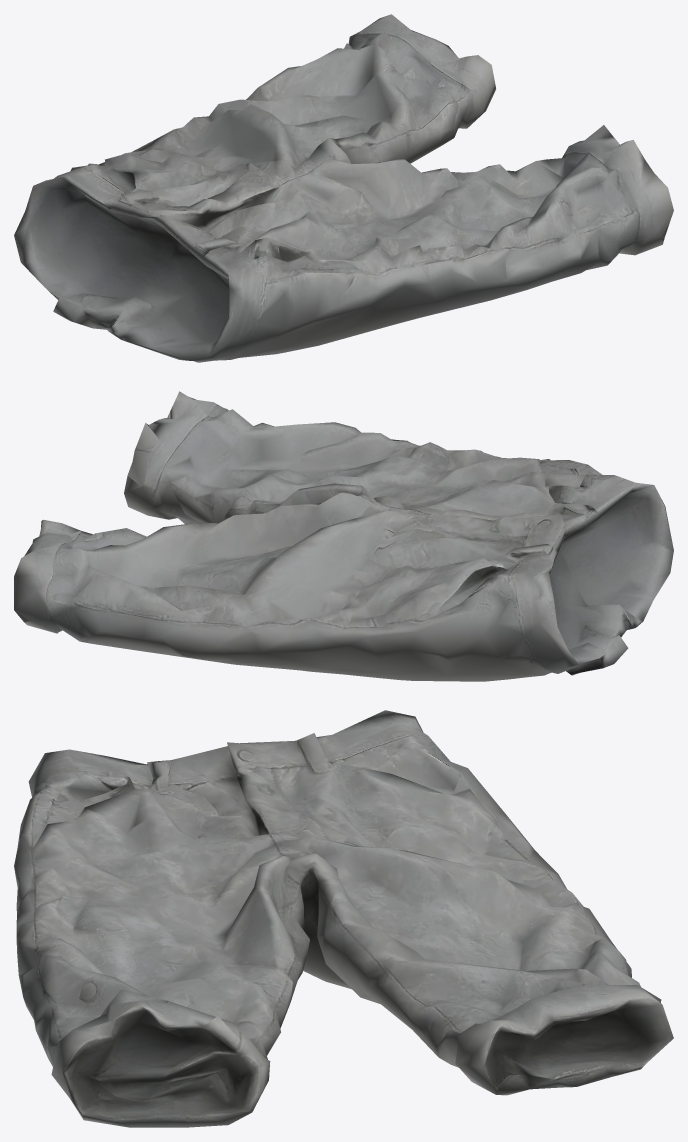
Rendered from ground_trousers.7302dd4ce2.glb.
3 renders of one model, top to bottom at view 1: azimuth 30°, elevation 25°; view 2: azimuth 150°, elevation 25°; view 3: azimuth 270°, elevation 25°, orthographic. The views are drawn at different scales.
Visible parts, largest first — view 1: ground_trousers; view 2: ground_trousers; view 3: ground_trousers.
Part boxes in pixels (left/top/right/bottom): ground_trousers: left=14, top=14, right=673, bottom=362; ground_trousers: left=14, top=391, right=673, bottom=681; ground_trousers: left=14, top=710, right=673, bottom=1127.
Bounding box in the file's own units: 0.62 × 0.1636 × 0.5486.
Materials: 1 (1 with a texture image).
